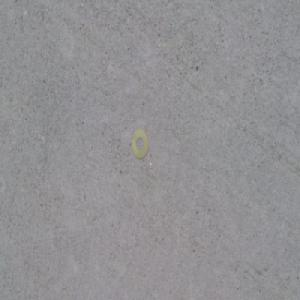Washer: (132, 129, 149, 160)
